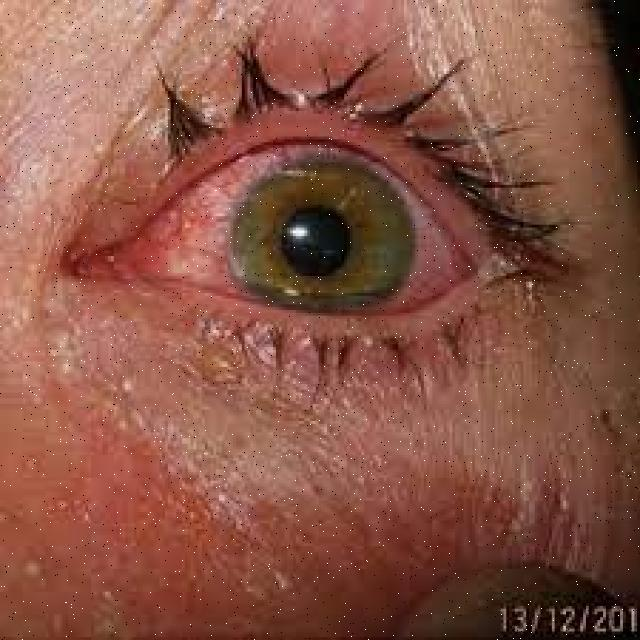Conjunctivitis: (68, 158, 490, 313)
